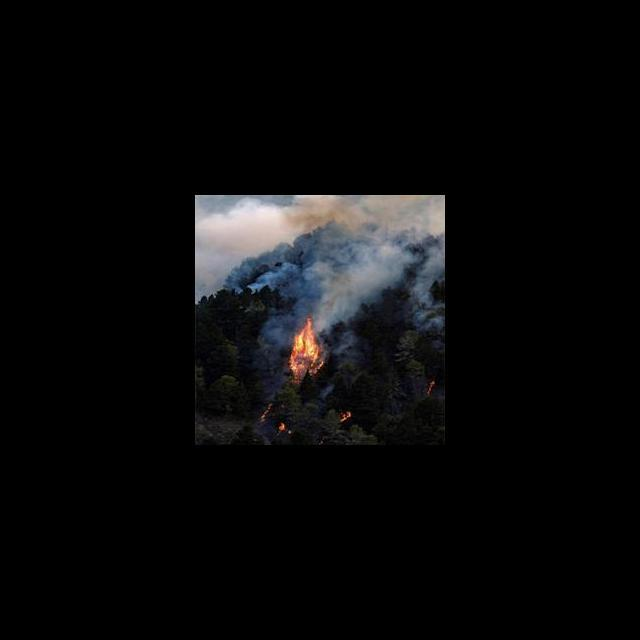Fire: (287, 316, 330, 381)
Smoke: (195, 195, 444, 313)
